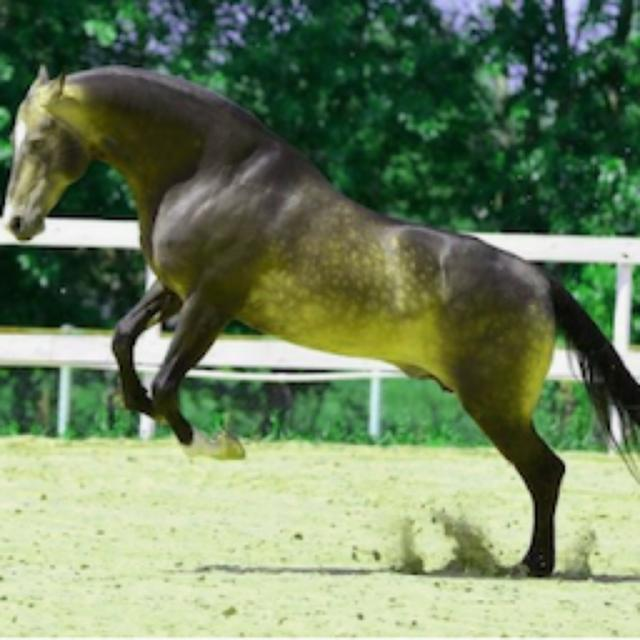Horse: (0, 55, 638, 580)
